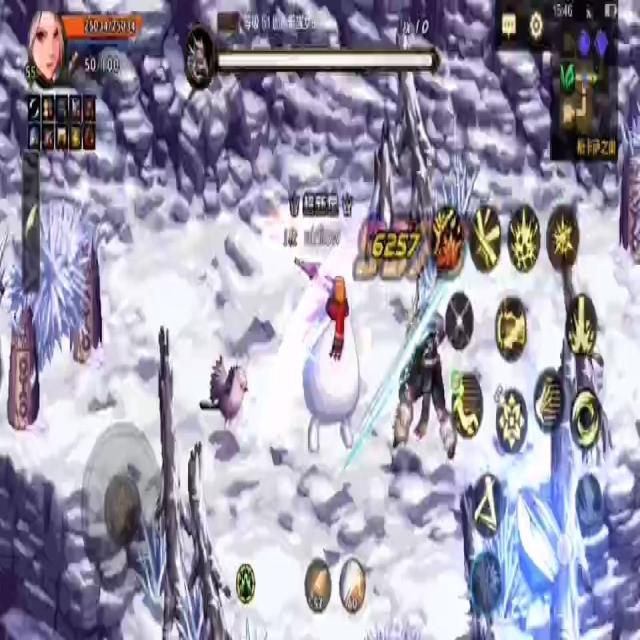player: (305, 271, 358, 459)
